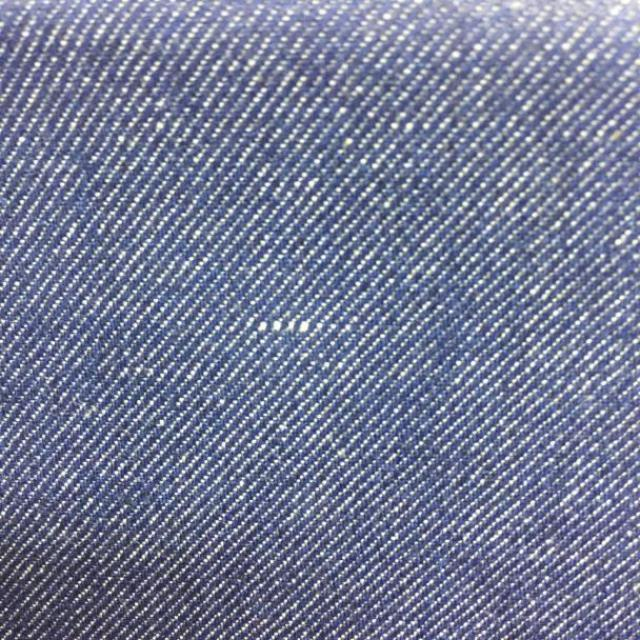Knot: (257, 318, 311, 335)
